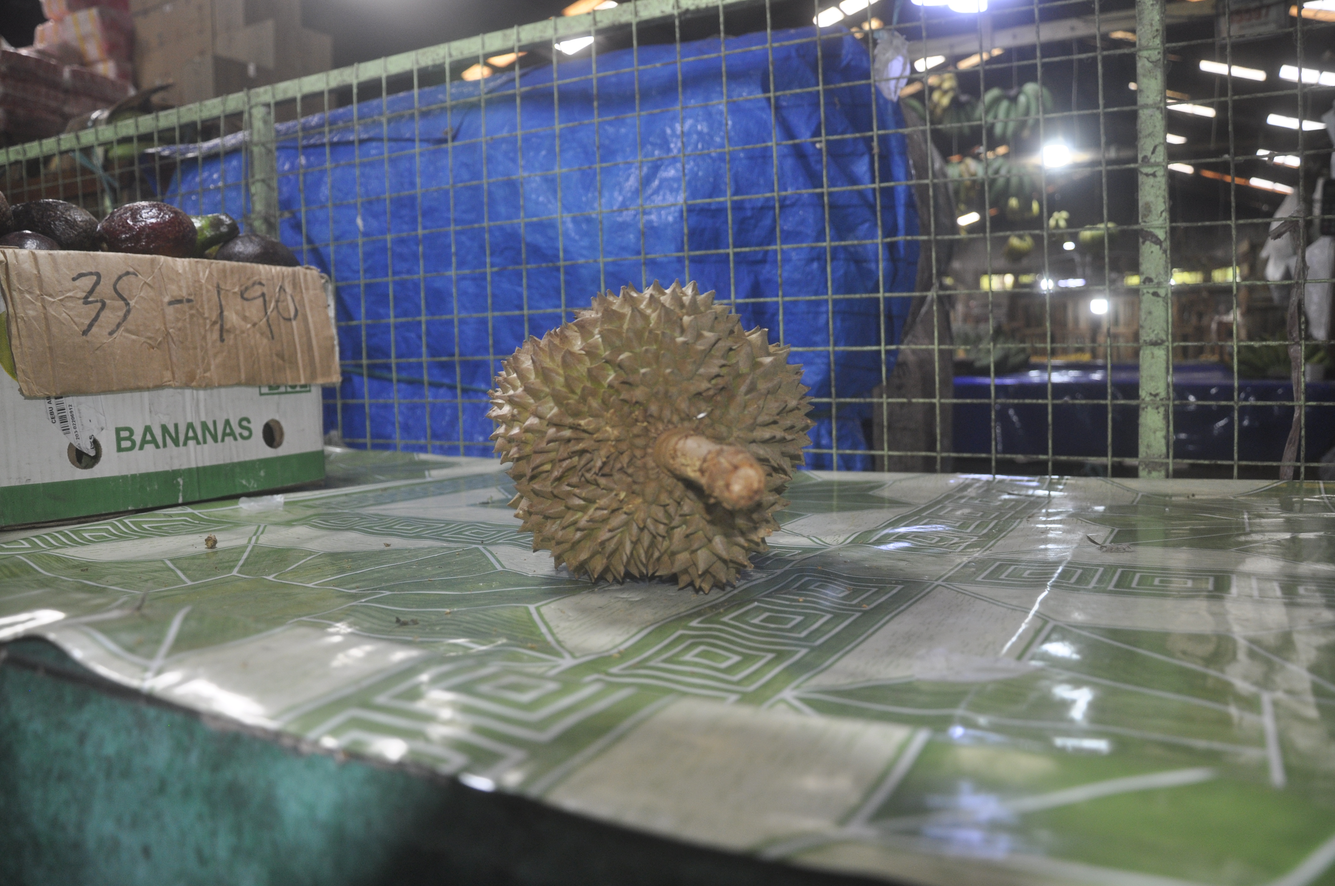mature: (488, 281, 814, 594)
